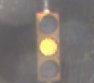Yellow: (33, 8, 64, 83)
